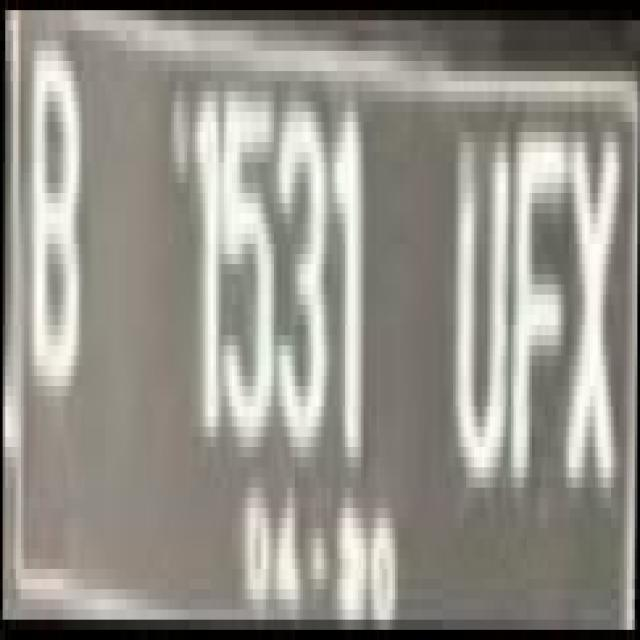1: (330, 81, 370, 488), (187, 86, 221, 452)
3: (275, 81, 331, 478)
5: (220, 76, 276, 472)
B: (26, 26, 84, 422)
F: (510, 101, 568, 518)
U: (450, 101, 510, 498)
X: (569, 101, 627, 518)
